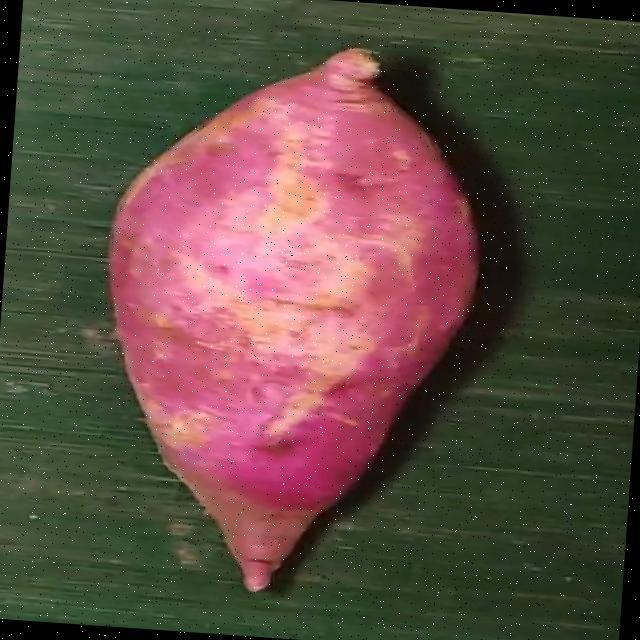Sweet Potato: (105, 47, 478, 591)
